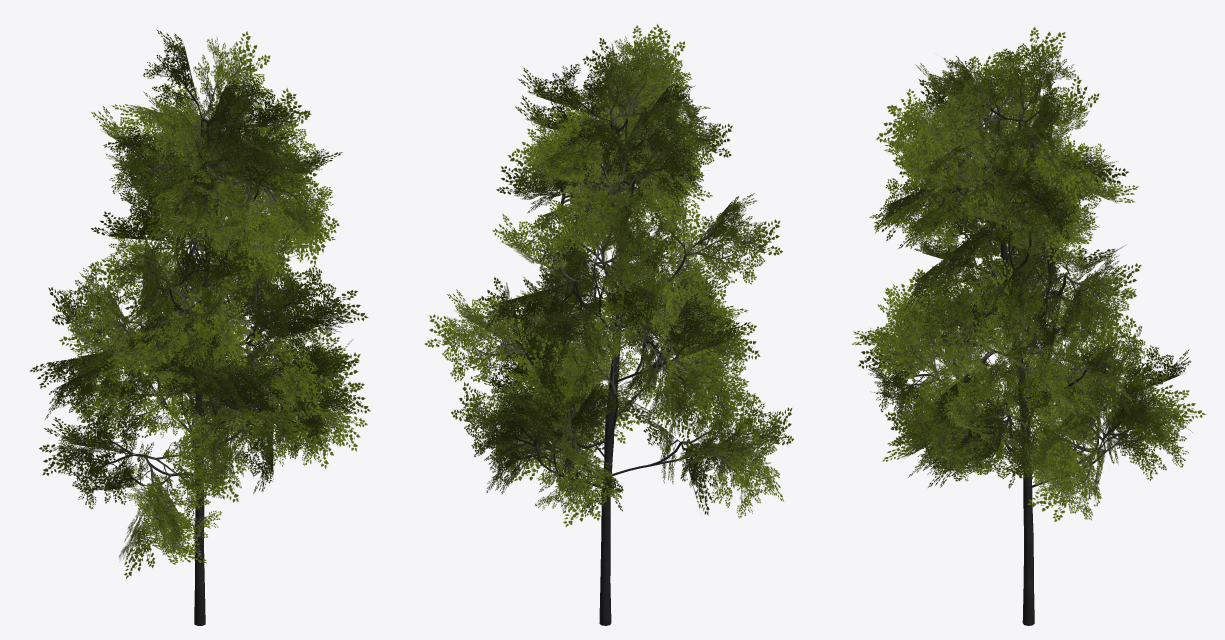
File: tree1.glb
3 views of the same model, side by side, from view 1: azimuth 30°, elevation 25°; view 2: azimuth 150°, elevation 25°; view 3: azimuth 270°, elevation 25° (orthographic).
Parts seen in each view (by area): view 1: tree021_1, tree021; view 2: tree021_1, tree021; view 3: tree021_1, tree021.
Boxes of the visible parts, x1,y1,x2,y2 form: tree021_1: (29,29,370,578); tree021: (140,119,271,625); tree021_1: (424,23,793,527); tree021: (525,117,695,625); tree021_1: (851,27,1205,521); tree021: (939,120,1107,625).
Size of the model in its own units: 12 by 21.62 by 12.2.
2 materials, 2 textured.
